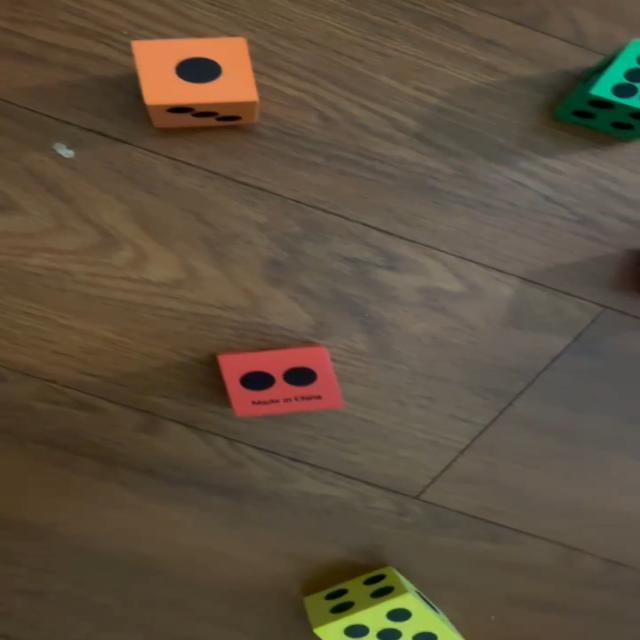red_block: (218, 347, 346, 418)
